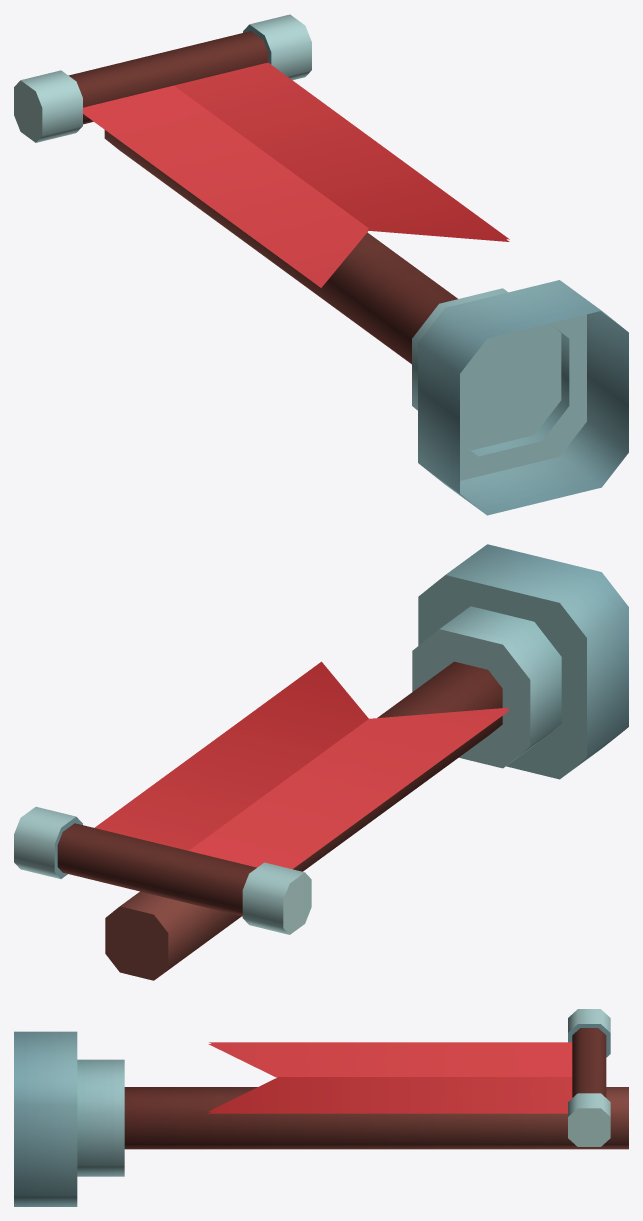
Rendered from Flag Red.FBX.
3 renders of one model, top to bottom at view 1: azimuth 30°, elevation 25°; view 2: azimuth 150°, elevation 25°; view 3: azimuth 270°, elevation 25°, orthographic. The views are drawn at different scales.
Parts seen in each view (by area): view 1: Flag Red; view 2: Flag Red; view 3: Flag Red.
Part boxes in pixels (x1=…): Flag Red: x1=14, y1=14, x2=628, y2=515; Flag Red: x1=14, y1=544, x2=628, y2=980; Flag Red: x1=14, y1=1009, x2=628, y2=1206.
Bounding box in the file's own units: 81.28 × 50.94 × 213.
Materials: 1 (1 with a texture image).
